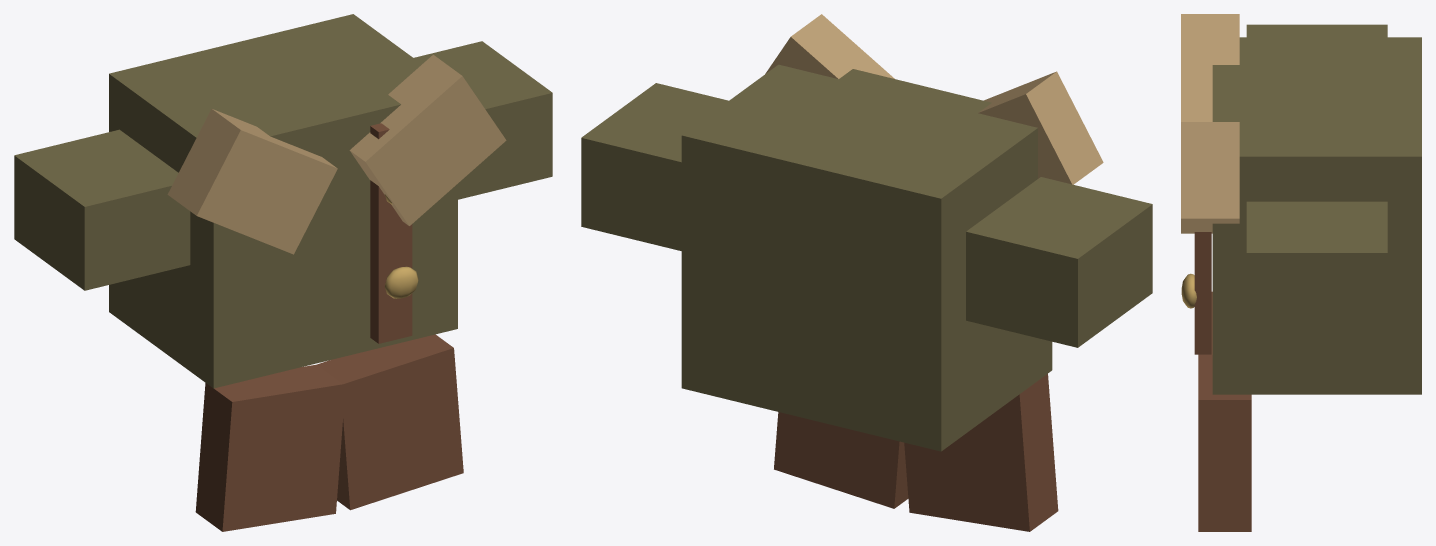
The model's file is fixed-leather.glb.
The picture shows the model from 3 angles, left to right: view 1: azimuth 30°, elevation 25°; view 2: azimuth 150°, elevation 25°; view 3: azimuth 270°, elevation 25°; orthographic projection. The views are drawn at different scales.
Parts seen in each view (by area): view 1: piece_torso, piece_waist, piece_armR, piece_armL; view 2: piece_torso, piece_armR, piece_waist, piece_armL; view 3: piece_torso, piece_armL, piece_waist, piece_armR.
Boxes of the visible parts, bbox=[...] form: piece_torso: bbox=[109, 14, 506, 388]; piece_waist: bbox=[195, 334, 463, 531]; piece_armR: bbox=[14, 129, 190, 290]; piece_armL: bbox=[414, 41, 552, 199]; piece_torso: bbox=[681, 14, 1103, 451]; piece_armR: bbox=[966, 177, 1152, 347]; piece_waist: bbox=[774, 374, 1058, 531]; piece_armL: bbox=[581, 83, 728, 250]; piece_torso: bbox=[1181, 14, 1421, 394]; piece_armL: bbox=[1246, 201, 1387, 336]; piece_waist: bbox=[1198, 291, 1251, 531]; piece_armR: bbox=[1246, 24, 1387, 37].
Bounding box in the file's own units: 1.11 × 0.9411 × 0.495.
